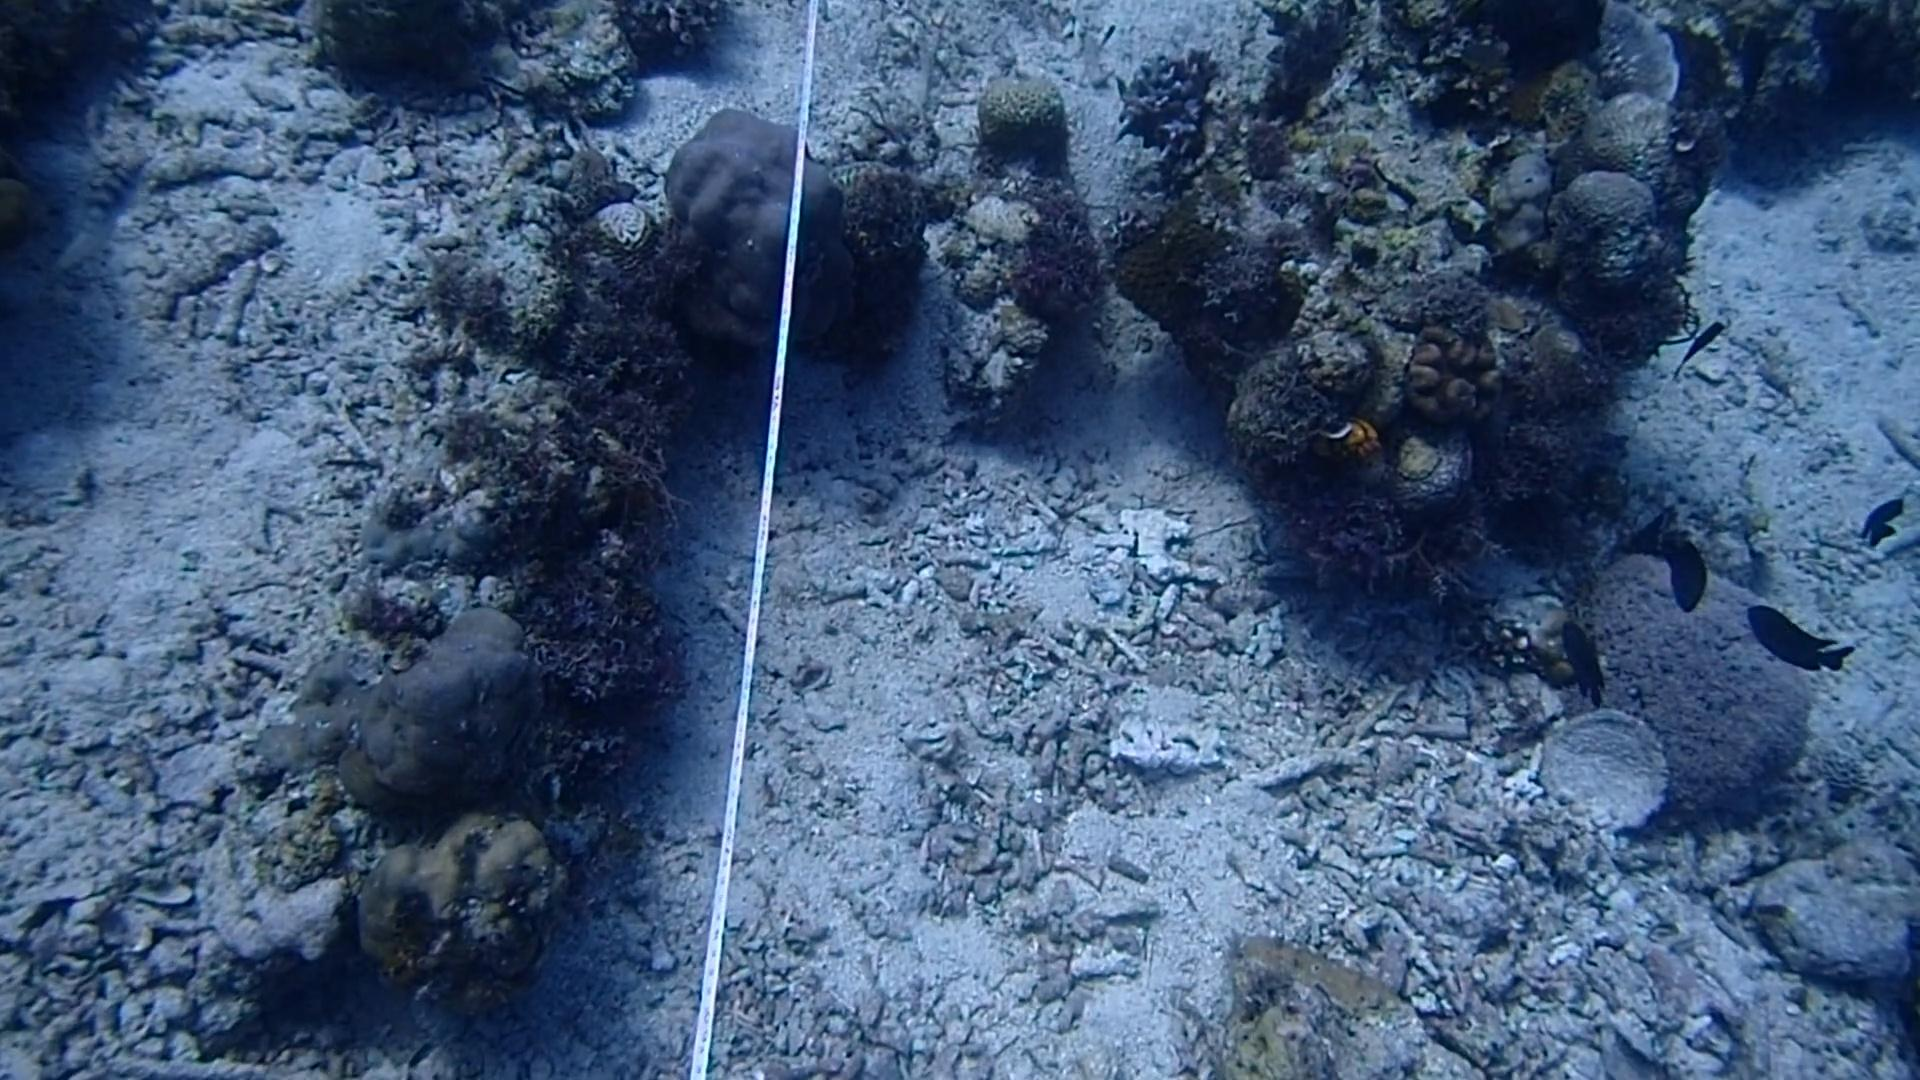Dark Fish: (1735, 588, 1857, 686), (1640, 509, 1720, 615), (1549, 607, 1607, 717), (1724, 17, 1782, 111), (1847, 485, 1911, 559), (1664, 311, 1730, 377)
Light Fish w Back Stripes: (50, 141, 149, 273)
